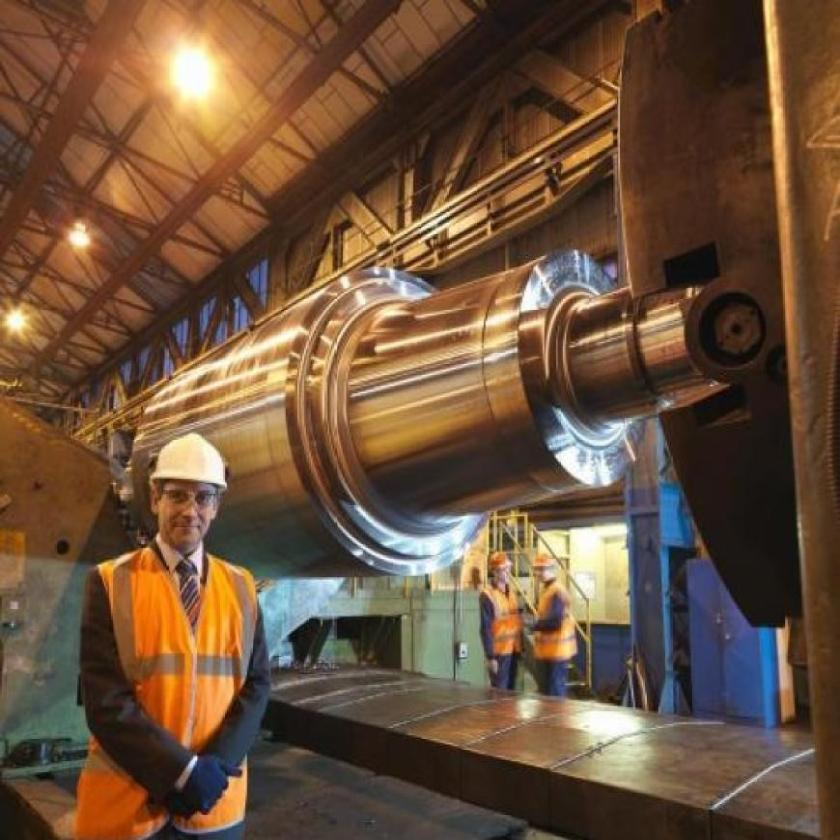Con_casco: (138, 418, 240, 574)
